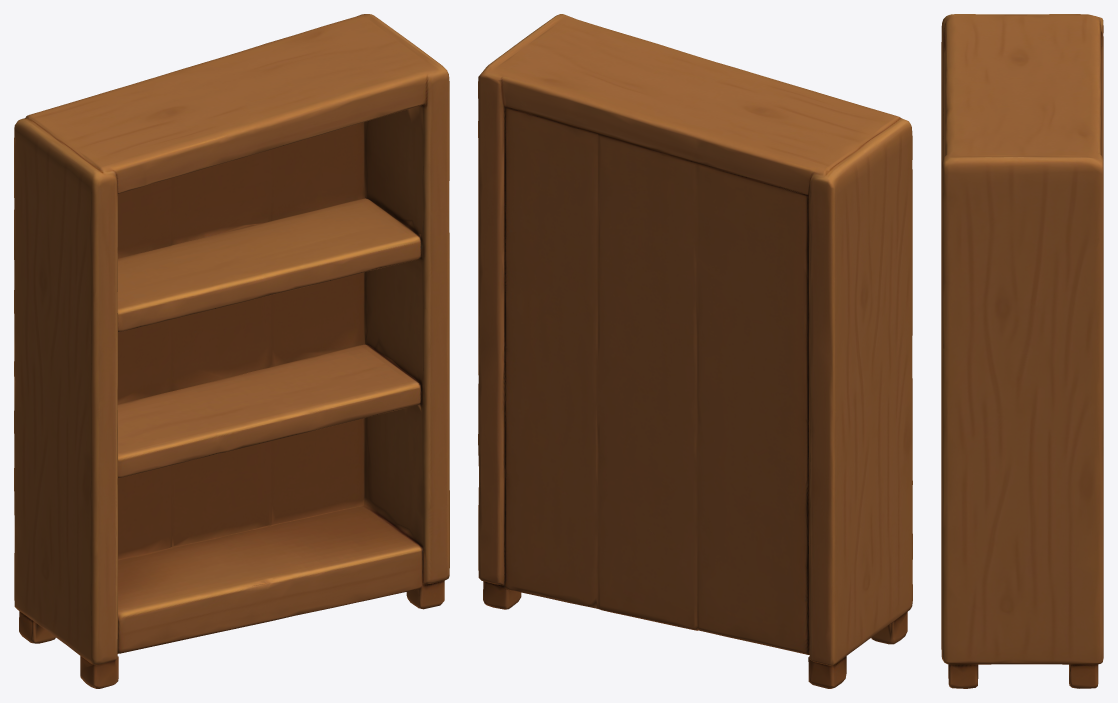
The model's file is bookshelf.glb.
3 renders of one model, left to right at view 1: azimuth 30°, elevation 25°; view 2: azimuth 150°, elevation 25°; view 3: azimuth 270°, elevation 25°, orthographic.
Parts seen in each view (by area): view 1: tripo_node_fe989b0b-2d34-4d03-9744-c0664708fa47; view 2: tripo_node_fe989b0b-2d34-4d03-9744-c0664708fa47; view 3: tripo_node_fe989b0b-2d34-4d03-9744-c0664708fa47.
Boxes of the visible parts, x1,y1,x2,y2 form: tripo_node_fe989b0b-2d34-4d03-9744-c0664708fa47: (14, 14, 449, 688); tripo_node_fe989b0b-2d34-4d03-9744-c0664708fa47: (478, 14, 912, 688); tripo_node_fe989b0b-2d34-4d03-9744-c0664708fa47: (941, 14, 1103, 688).
Bounding box in the file's own units: 0.6933 × 1 × 0.2773.
1 material, 1 textured.
